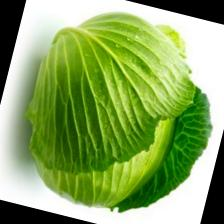cabbage: (5, 0, 224, 224)
